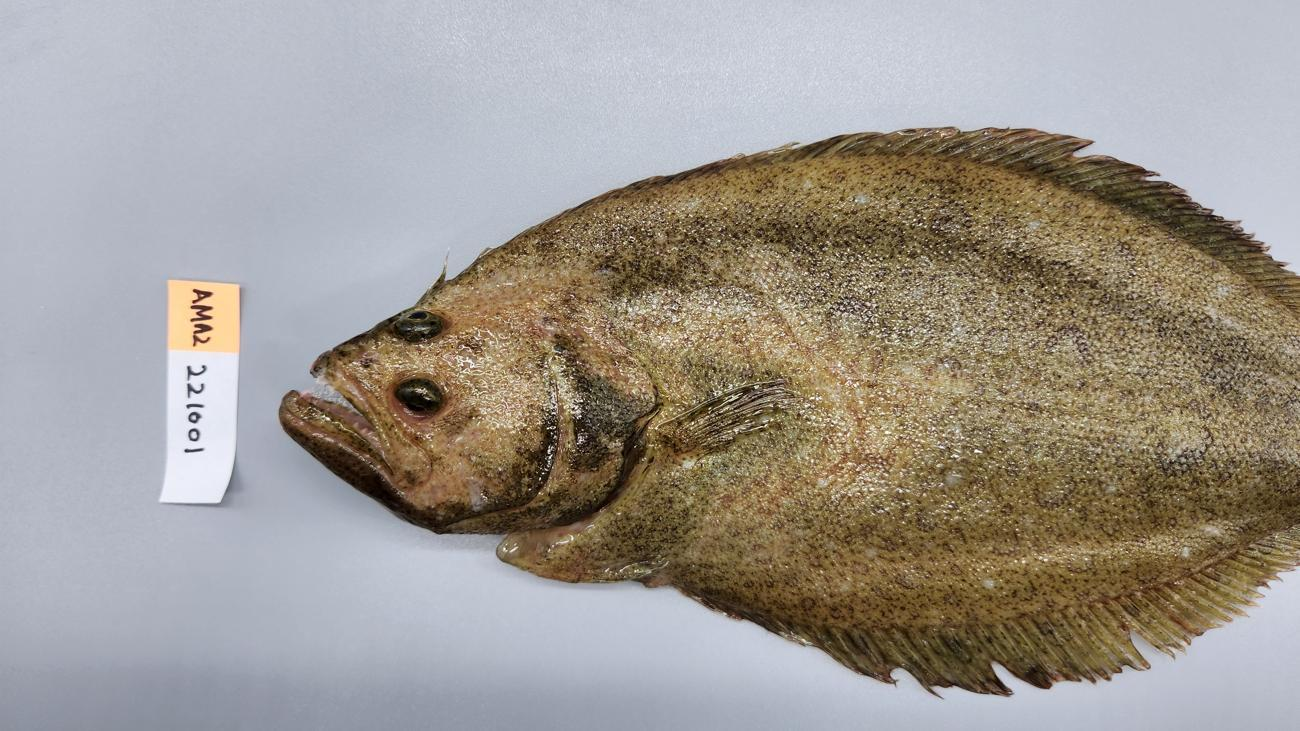MAFAH: (832, 529, 1298, 702)
